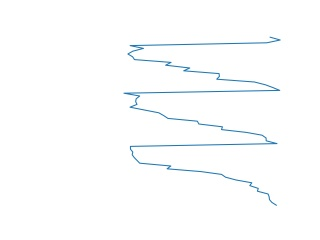distributaryMouthBar: (122, 37, 283, 207)
